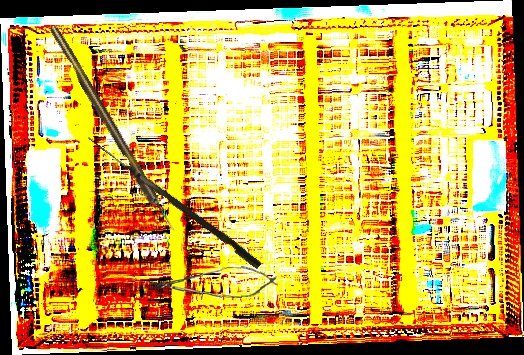Hook Surgical: (48, 24, 177, 235), (81, 136, 265, 270)
Micro Scissor: (146, 264, 279, 303)
